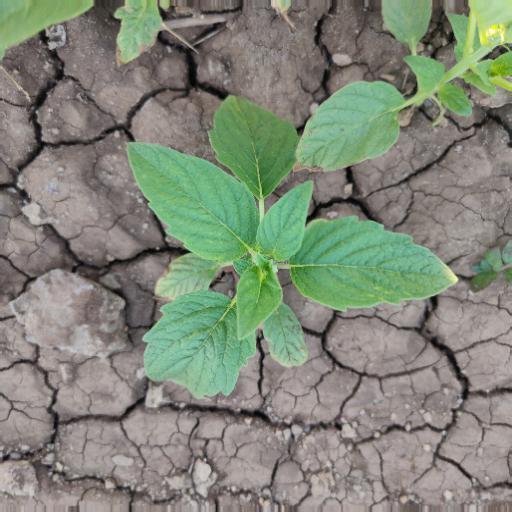crop: (120, 88, 452, 392)
